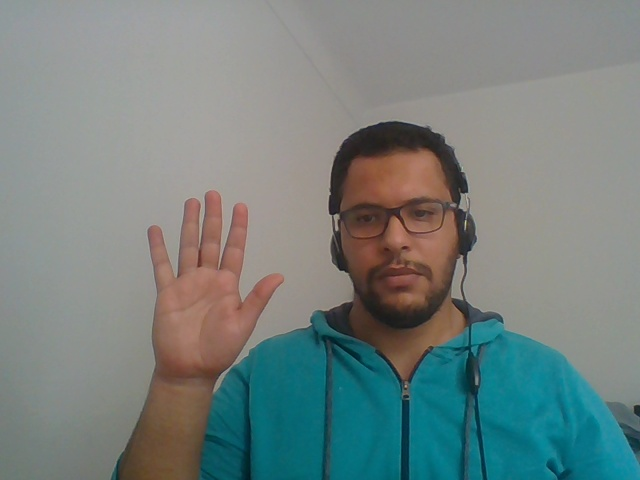hello: (113, 162, 295, 436)
